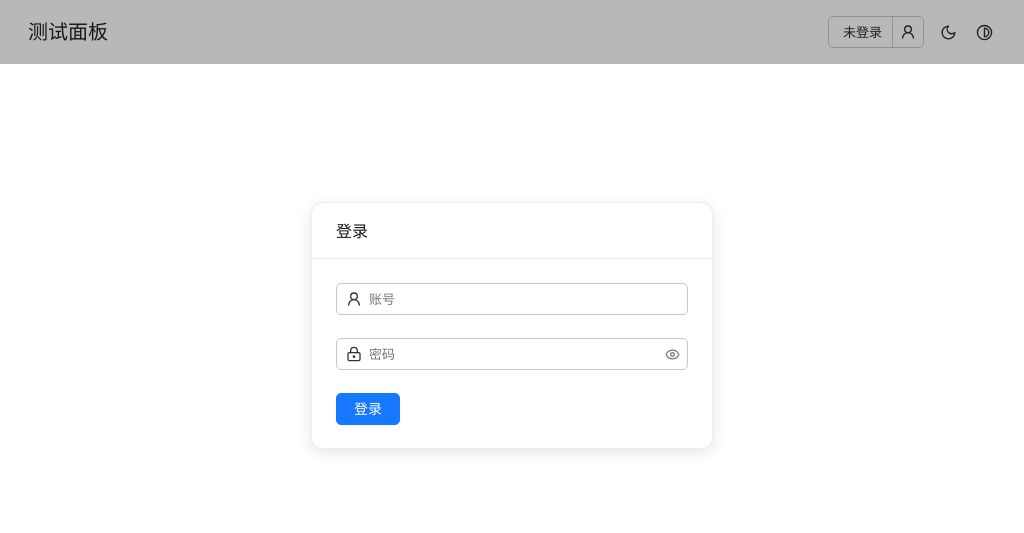
shared login form › shows a credential error and keeps the user on the form
Type "  test-account  " into the field with placeholder "账号" at (528, 299), box [369,284,687,314]
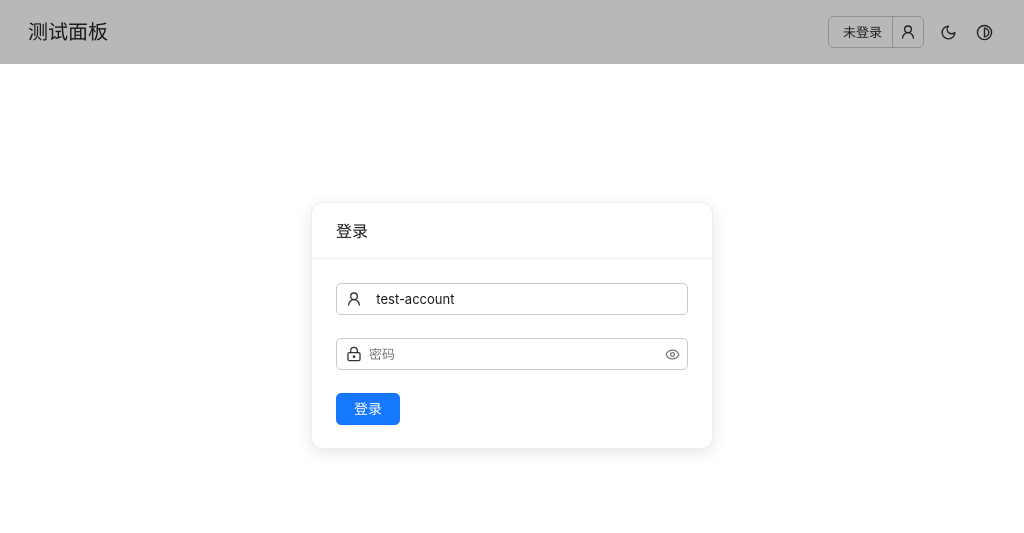
Type "test-only-password" into the password field with placeholder "密码" at (513, 354), box [369,339,657,369]
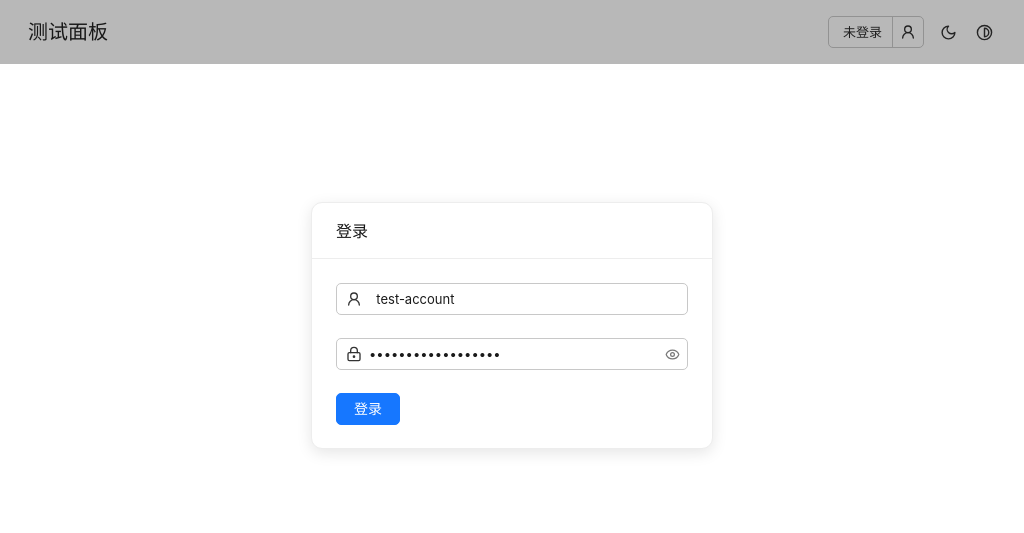
Submit the form, box [312,259,712,448]
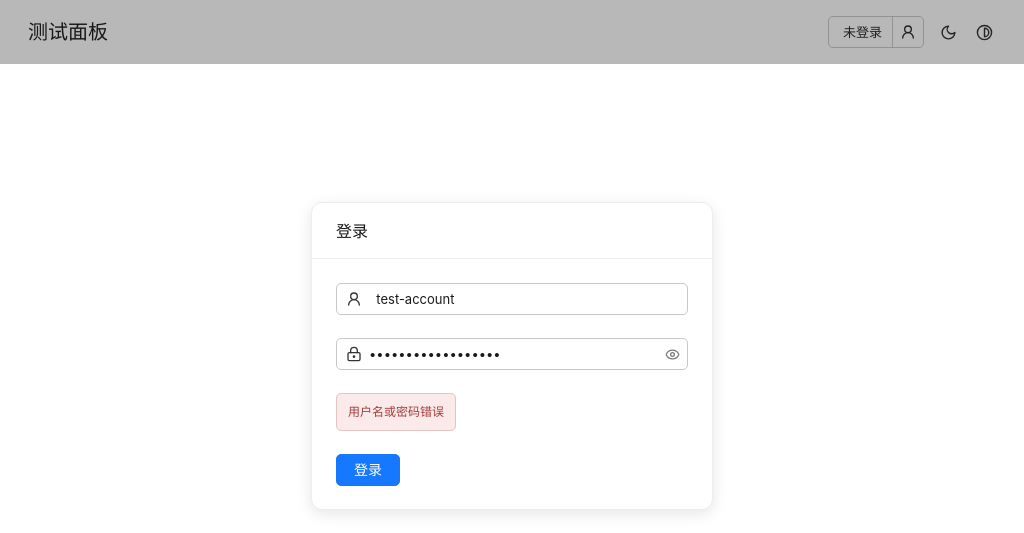
Expected: the submit button is enabled, [336,454,400,486]
Result: the message "用户名或密码错误" is shown at [336,393,456,431]
